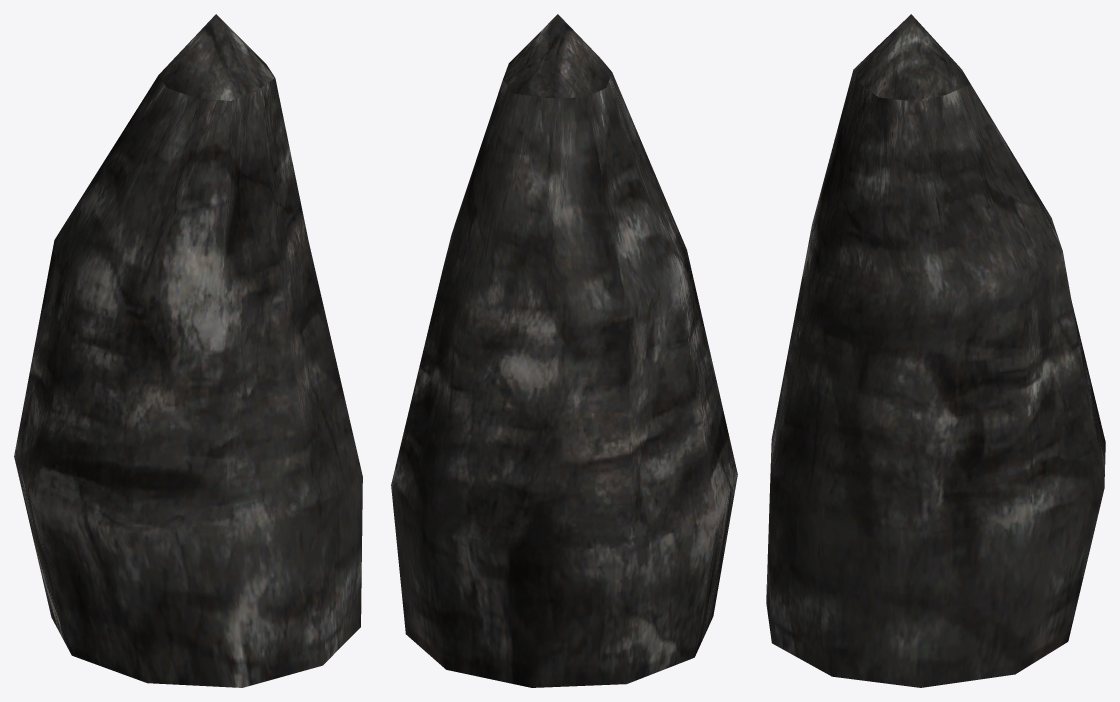
The model's file is Stalactite05.DAE.
3 views of the same model, side by side, from view 1: azimuth 30°, elevation 25°; view 2: azimuth 150°, elevation 25°; view 3: azimuth 270°, elevation 25° (orthographic).
Parts seen in each view (by area): view 1: Cylinder001; view 2: Cylinder001; view 3: Cylinder001.
Part boxes in pixels (x1,y1,x2,y2): Cylinder001: (14, 14, 362, 687); Cylinder001: (391, 14, 737, 687); Cylinder001: (766, 14, 1105, 687).
Bounding box in the file's own units: 0.6899 × 0.6667 × 1.32.
